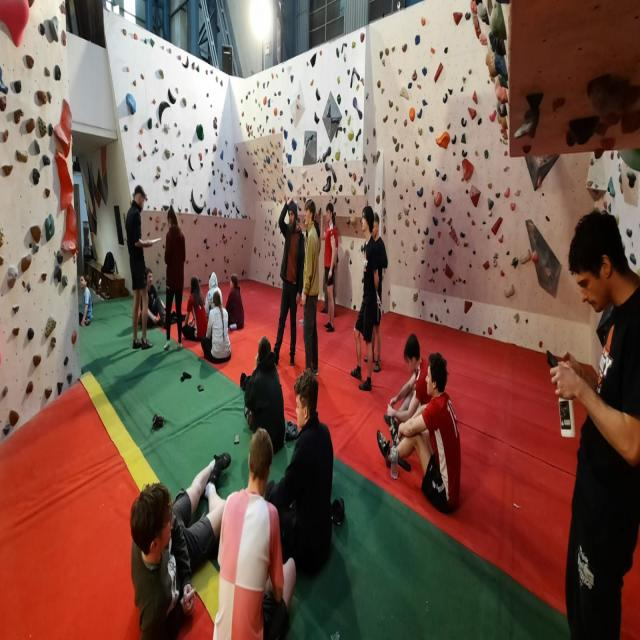Crimp: (451, 10, 464, 24)
Jug: (18, 252, 33, 276), (38, 116, 48, 140), (16, 148, 29, 164), (31, 226, 43, 243)
Sloper: (0, 0, 36, 52), (489, 0, 508, 44), (190, 185, 206, 222), (459, 158, 476, 181), (467, 184, 482, 210), (157, 100, 171, 125), (435, 132, 451, 149), (186, 150, 196, 174), (195, 119, 205, 142), (167, 85, 177, 106), (433, 189, 444, 208), (181, 54, 190, 72), (170, 173, 180, 188)
